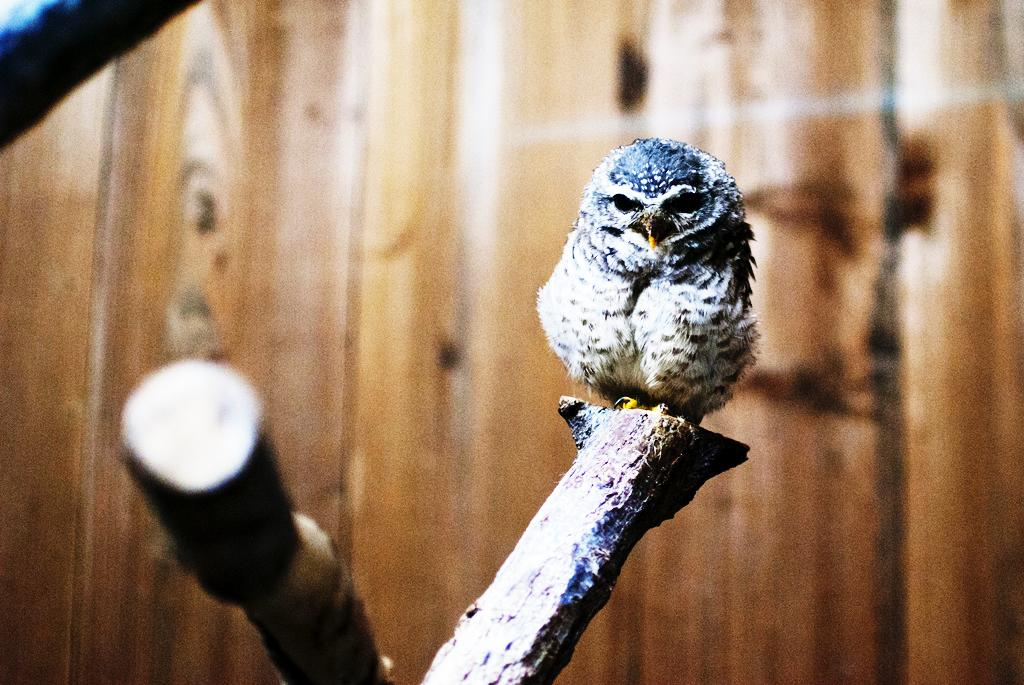Owl: (530, 136, 764, 423)
